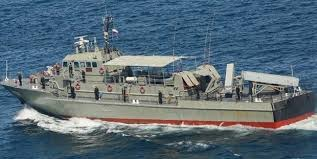tau_muctieu: (18, 34, 314, 131)
